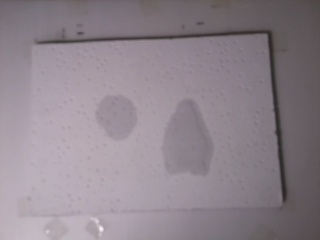Water_detected: (169, 101, 224, 177), (100, 98, 142, 139)
